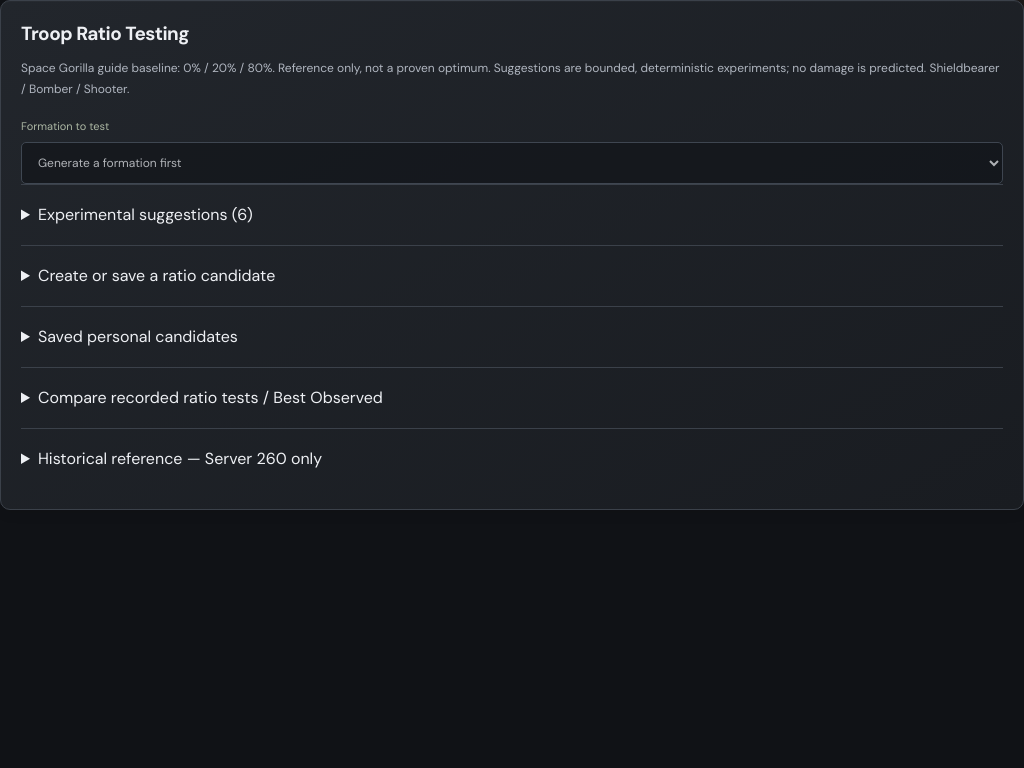
Test: keeps the historical 260 reference read-only and never inserts it into a 248 profile
This screenshot has width=1024, height=768.
Click the heading "Historical reference — Server 260 only".
click(180, 458)  # box [38,448,322,469]
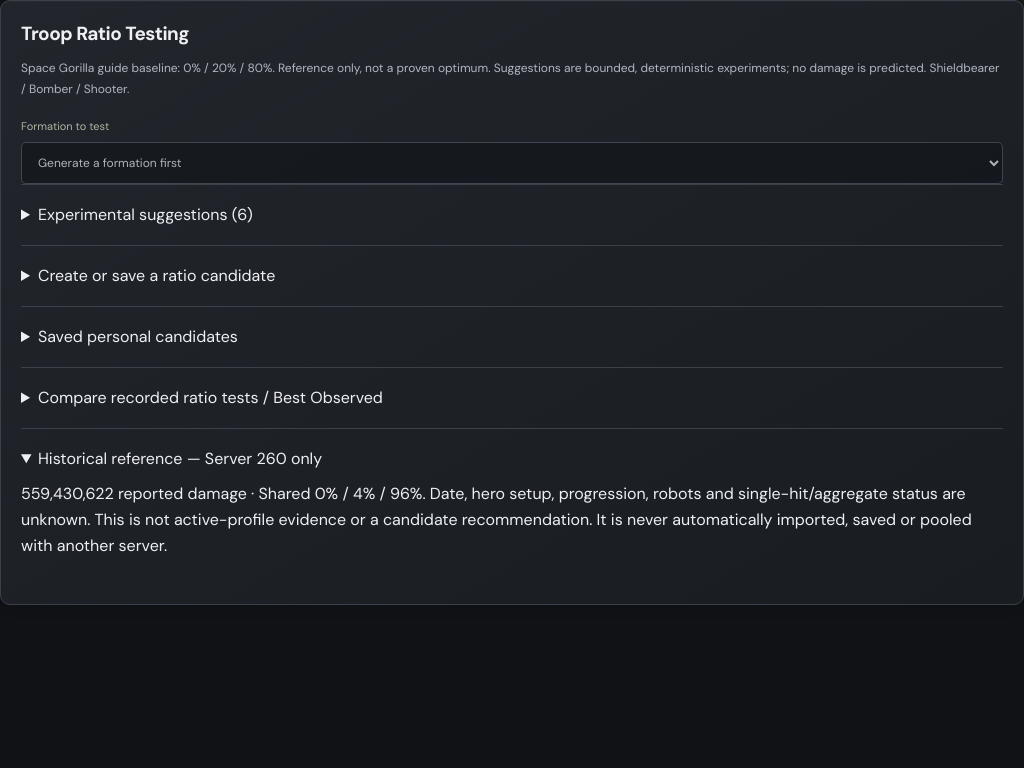
Expected: the text "559,430,622 reported damage" is shown, [21,482,972,556]
